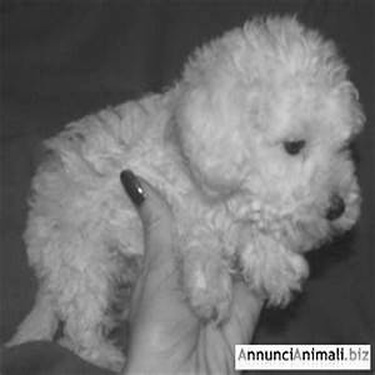dog: (16, 7, 368, 369)
